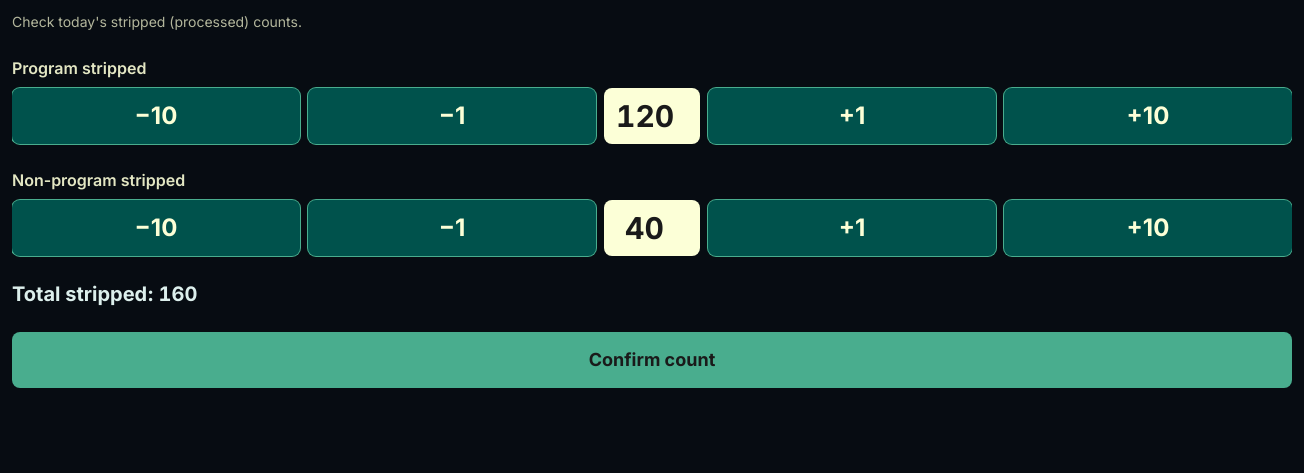
Test: what the new branch must NOT swallow › a 500 is still the generic failure
Click the button "Confirm count".
click(652, 360)  # box [12, 332, 1292, 388]
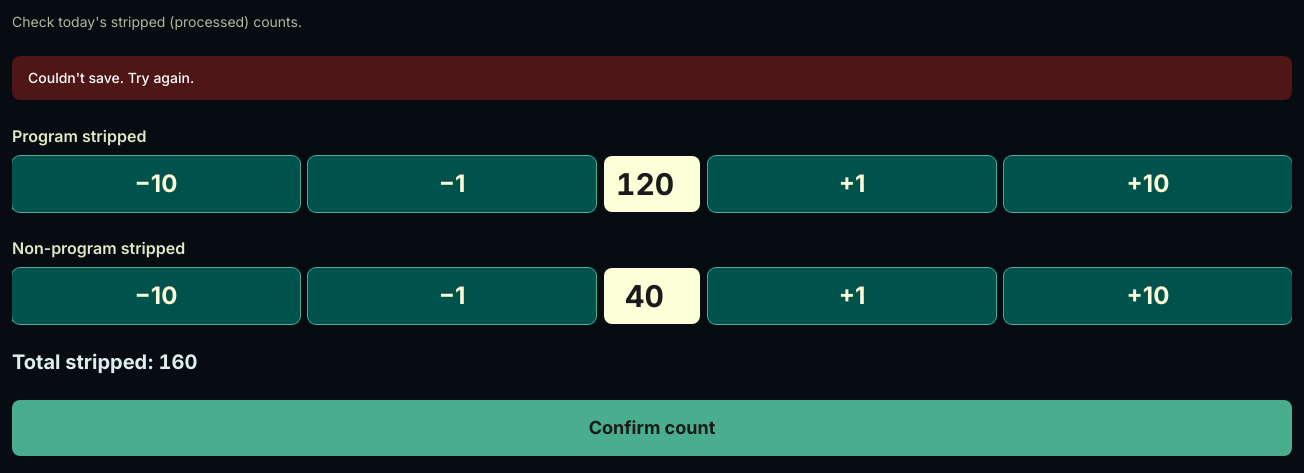
Result: the text "Couldn't save. Try again." is shown at [12, 56, 1292, 100]
